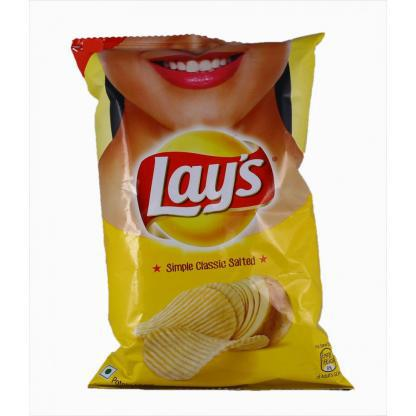classicsalted: (71, 31, 356, 391)
